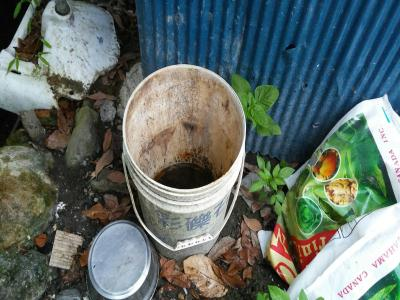bowl: (85, 218, 161, 299)
bucket: (120, 62, 250, 260)
plastic_bag: (276, 97, 400, 297)
